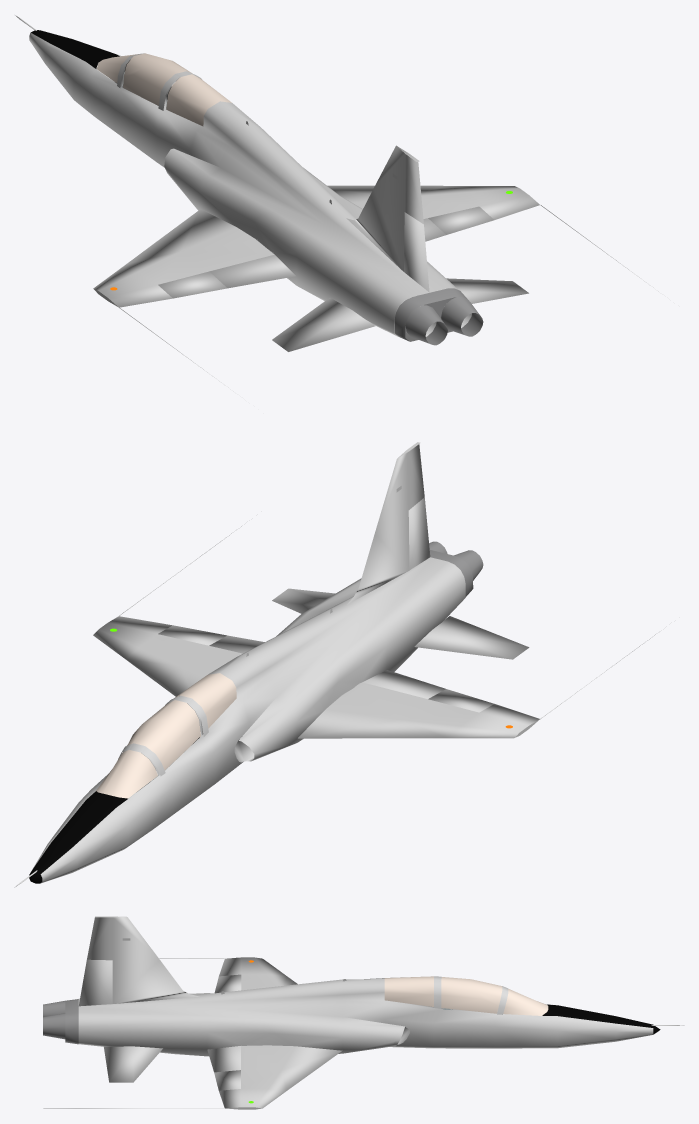
3 renders of one model, top to bottom at view 1: azimuth 30°, elevation 25°; view 2: azimuth 150°, elevation 25°; view 3: azimuth 270°, elevation 25°, orthographic. The views are drawn at different scales.
Parts seen in each view (by area): view 1: fuselage, Object.004, Object.011, leftelevator, leftflap, rudder, Object.007, rightelevator, Object.010, Object.001, leftaileron, rightaileron; view 2: fuselage, Object.004, Object.011, leftelevator, Object.012, rudder, leftflap, rightelevator, leftaileron, rightaileron; view 3: fuselage, Object.004, Object.011, rightelevator, rudder, Object.012, rightflap, Object.007, Object.001, rightaileron, leftaileron, Object.003.
Boxes of the visible parts, bbox=[...] form: fuselage: bbox=[15, 15, 458, 336]; Object.004: bbox=[93, 185, 539, 307]; Object.011: bbox=[123, 53, 231, 126]; leftelevator: bbox=[272, 298, 375, 351]; leftflap: bbox=[209, 254, 295, 288]; rudder: bbox=[404, 212, 429, 292]; Object.007: bbox=[394, 288, 467, 341]; rightelevator: bbox=[446, 278, 528, 303]; Object.010: bbox=[405, 305, 447, 345]; Object.001: bbox=[441, 297, 483, 336]; leftaileron: bbox=[158, 271, 227, 298]; rightaileron: bbox=[428, 206, 494, 234]; fuselage: bbox=[14, 442, 465, 887]; Object.004: bbox=[93, 616, 539, 738]; Object.011: bbox=[127, 673, 236, 770]; leftelevator: bbox=[414, 616, 529, 659]; Object.012: bbox=[96, 750, 157, 798]; rudder: bbox=[408, 497, 430, 570]; leftflap: bbox=[363, 670, 445, 698]; rightelevator: bbox=[272, 588, 335, 613]; leftaileron: bbox=[428, 689, 494, 712]; rightaileron: bbox=[158, 625, 226, 645]; fuselage: bbox=[78, 916, 684, 1056]; Object.004: bbox=[219, 957, 342, 1109]; Object.011: bbox=[384, 976, 502, 1013]; rightelevator: bbox=[104, 1046, 162, 1082]; rudder: bbox=[79, 959, 112, 1006]; Object.012: bbox=[503, 989, 548, 1015]; rightflap: bbox=[207, 1046, 240, 1072]; Object.007: bbox=[65, 999, 78, 1044]; Object.001: bbox=[43, 1013, 65, 1039]; rightaileron: bbox=[214, 1070, 240, 1090]; leftaileron: bbox=[214, 974, 241, 993]; Object.003: bbox=[434, 980, 508, 1014].
Bounding box in the file's own units: 8 × 3.18 × 15.12.
